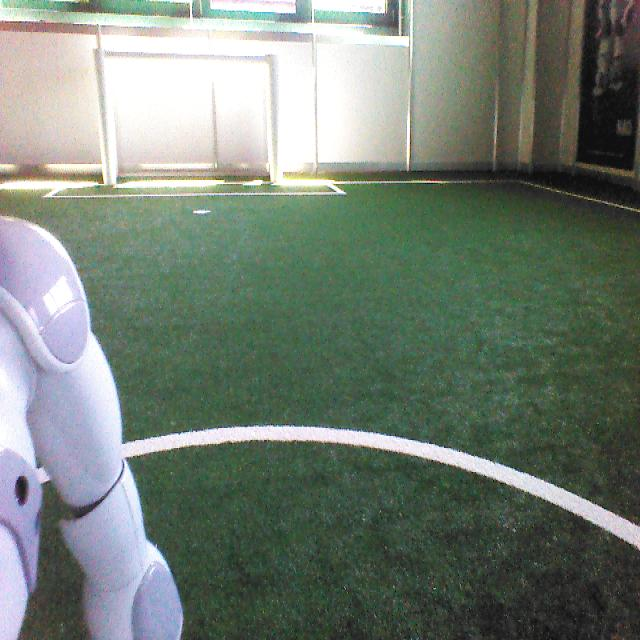goalpost: (90, 48, 116, 185), (266, 53, 283, 183)
